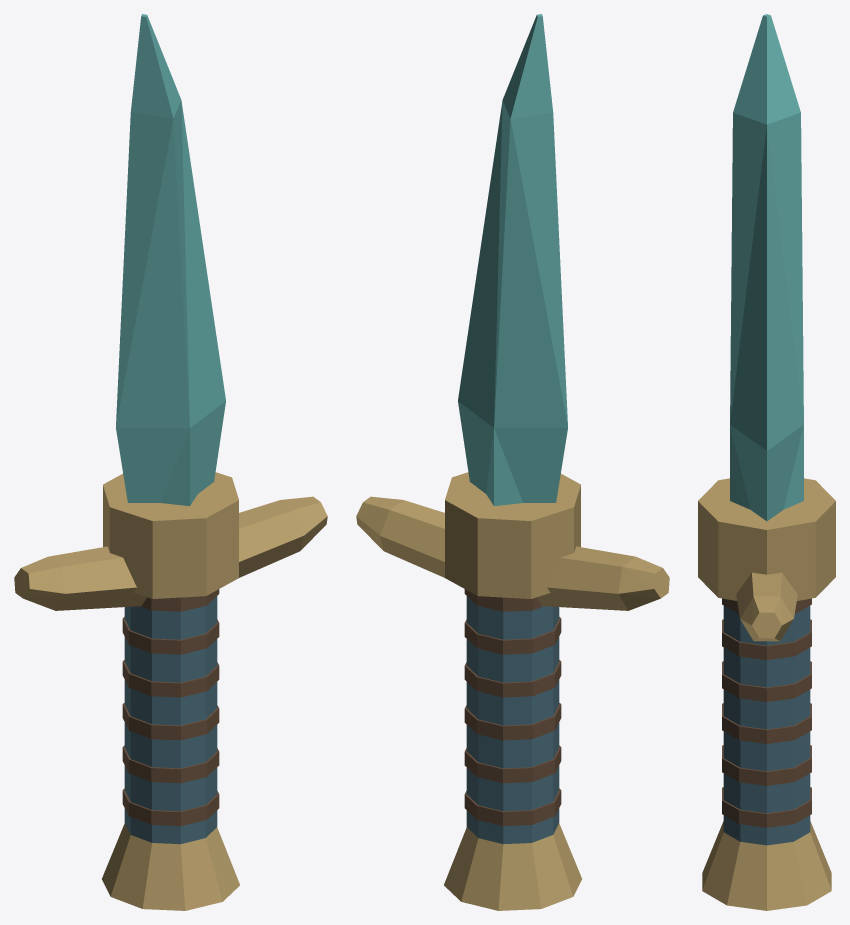
The model's file is AEW_Dagger_GlassThorn.fbx.
3 renders of one model, left to right at view 1: azimuth 30°, elevation 25°; view 2: azimuth 150°, elevation 25°; view 3: azimuth 270°, elevation 25°, orthographic. The views are drawn at different scales.
Visible parts, largest first — view 1: AEW_Dagger_GlassThorn; view 2: AEW_Dagger_GlassThorn; view 3: AEW_Dagger_GlassThorn.
Part boxes in pixels (x1,y1,x2,y2): AEW_Dagger_GlassThorn: [14, 14, 327, 910]; AEW_Dagger_GlassThorn: [356, 14, 669, 910]; AEW_Dagger_GlassThorn: [698, 14, 835, 910].
Bounding box in the file's own units: 0.2038 × 0.56 × 0.082.
